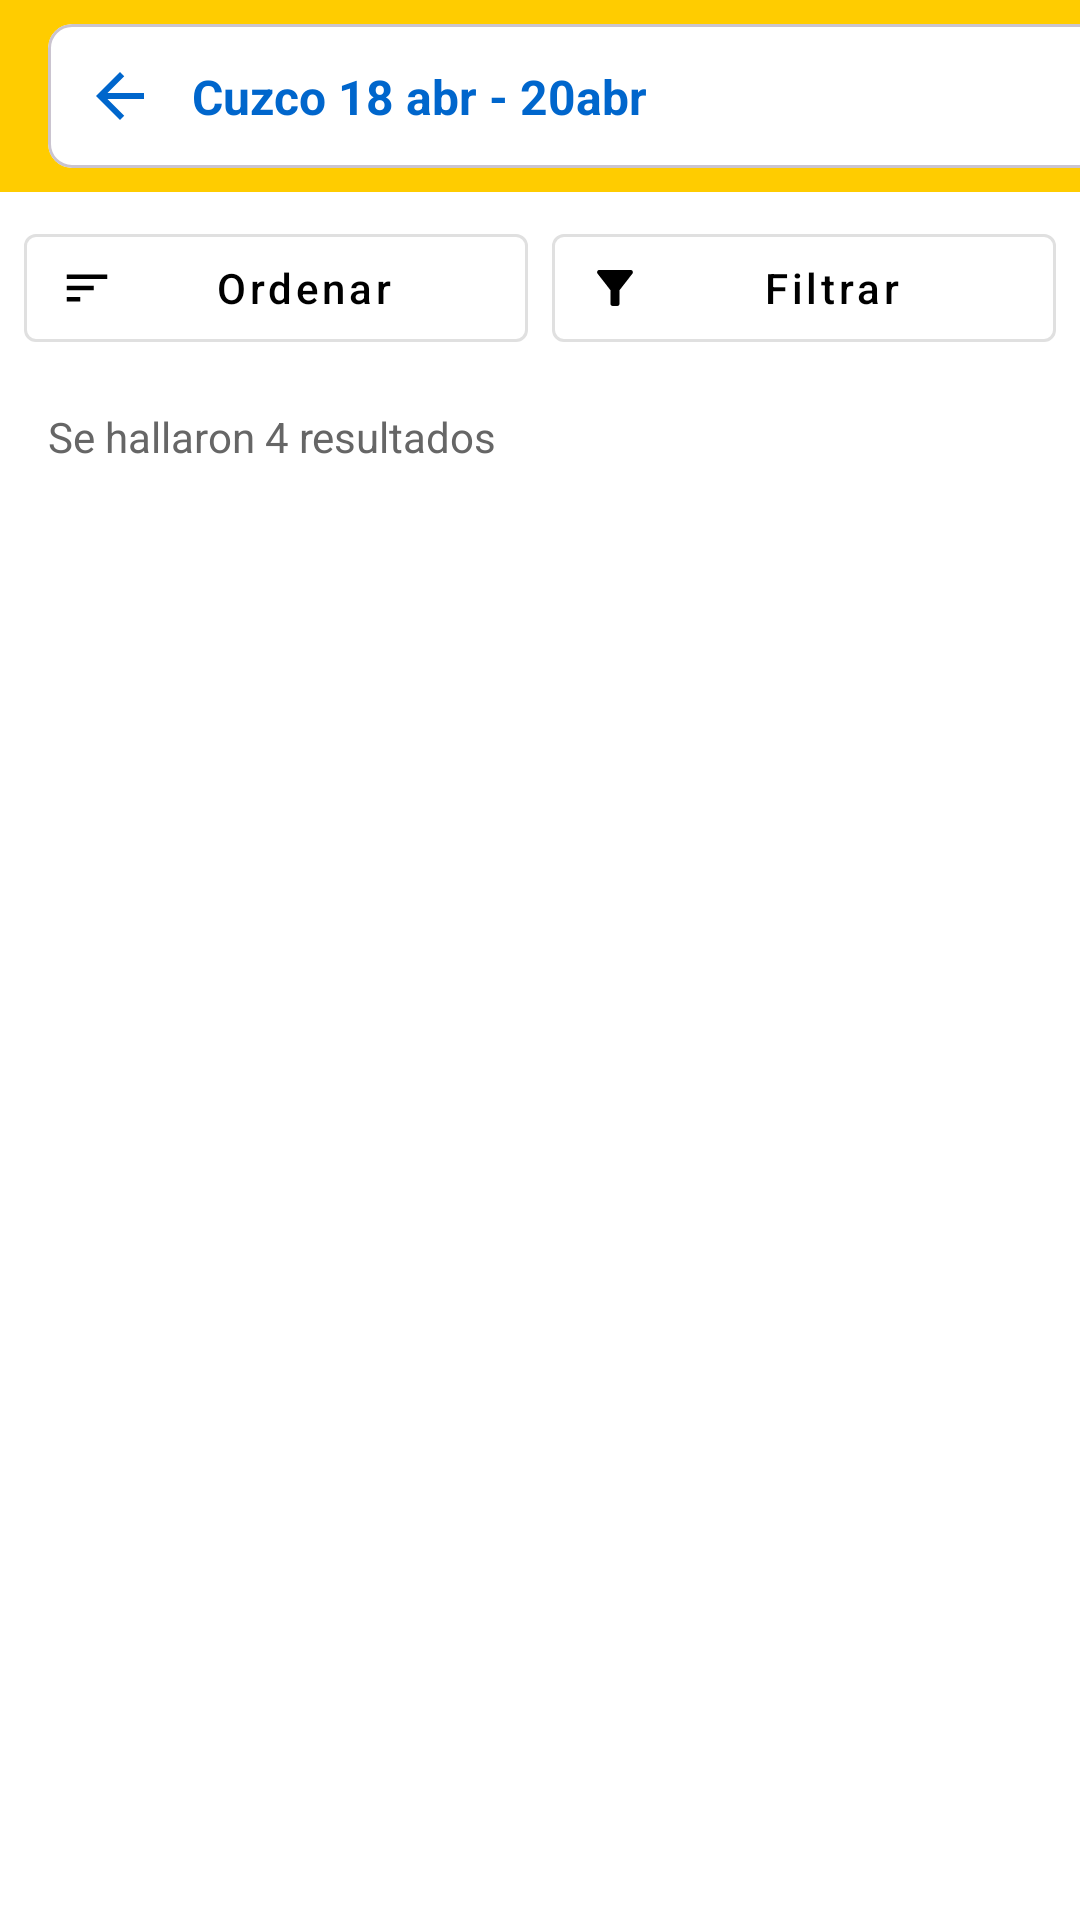

Locate icon controls on the screen. Image size 1080w x 1920h, boxes as (x1, y1, x2, y2).
Volver: (96, 72, 144, 120)
